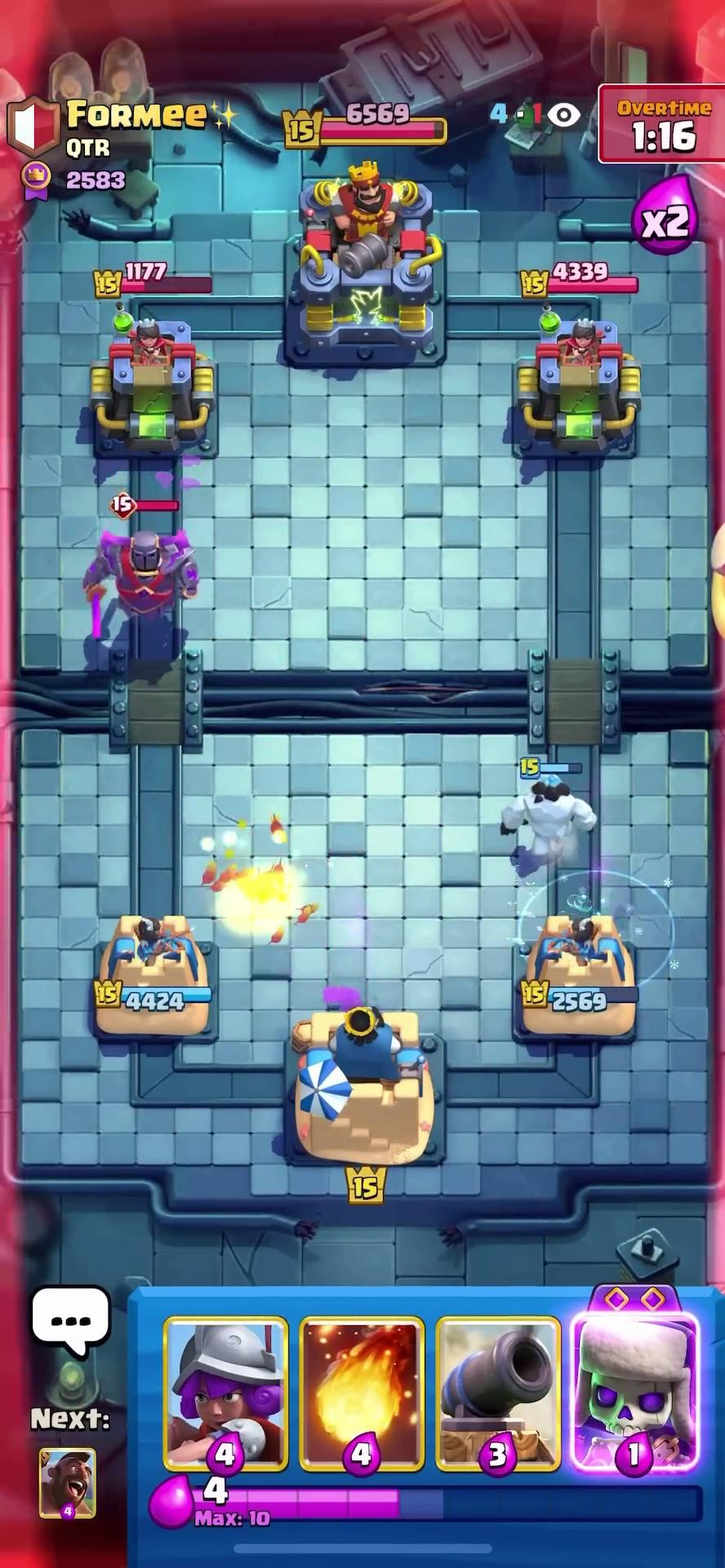ice_golem: (502, 755, 588, 855)
